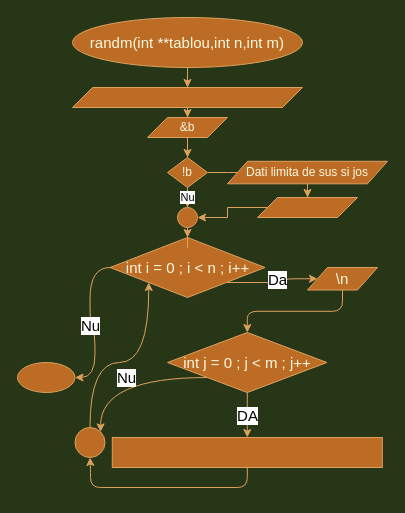
The diagram is 405 pixels wide and 513 high, and some of its shapes have lost their labels. The shapes that lost their labels are listed below. From the top down, each one's centre as x and y in pixels, then its label:
point 187,97: doriti o matirce random 0 - da; 1 - nu
point 307,207: &max &min
point 45,377: return b
point 246,452: tablou[i][j] = (rand() % (max - min + 1)) + min
